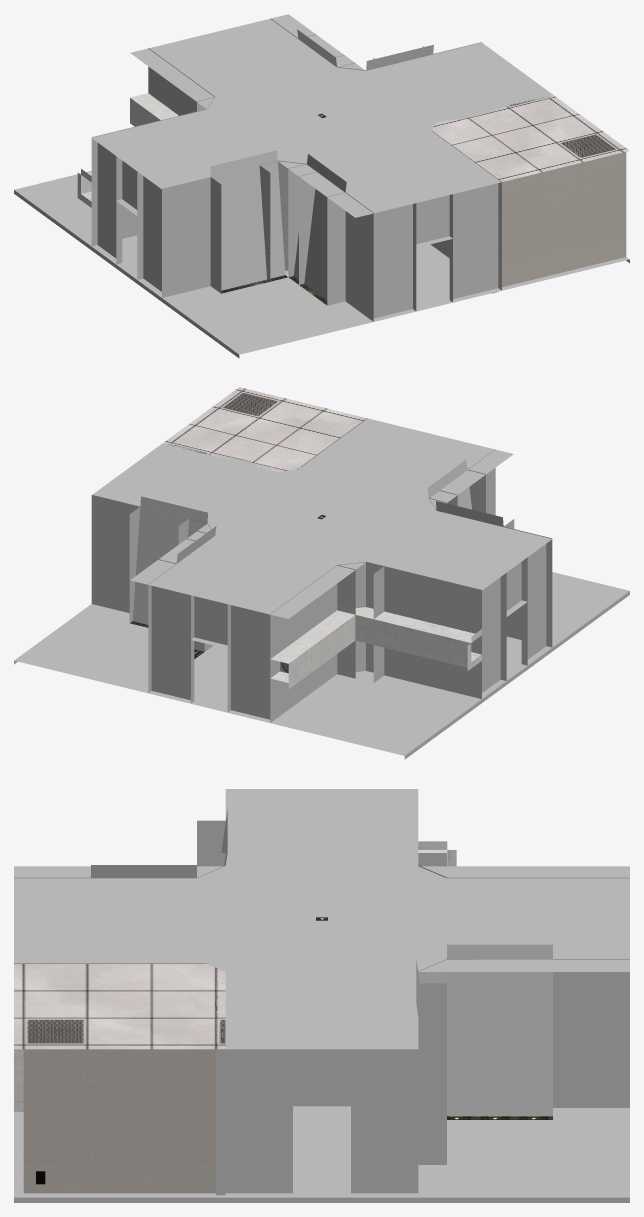
File: LC_room4_info.obj
The picture shows the model from 3 angles, top to bottom: view 1: azimuth 30°, elevation 25°; view 2: azimuth 150°, elevation 25°; view 3: azimuth 270°, elevation 25°; orthographic projection. The views are drawn at different scales.
Visible parts, largest first — view 1: room4InfoCenter_room4info_opt; view 2: room4InfoCenter_room4info_opt; view 3: room4InfoCenter_room4info_opt.
Part boxes in pixels (bbox=[...]): room4InfoCenter_room4info_opt: bbox=[14, 14, 629, 358]; room4InfoCenter_room4info_opt: bbox=[14, 387, 629, 759]; room4InfoCenter_room4info_opt: bbox=[14, 789, 629, 1202].
Bounding box in the file's own units: 20.48 × 6.16 × 20.48.
